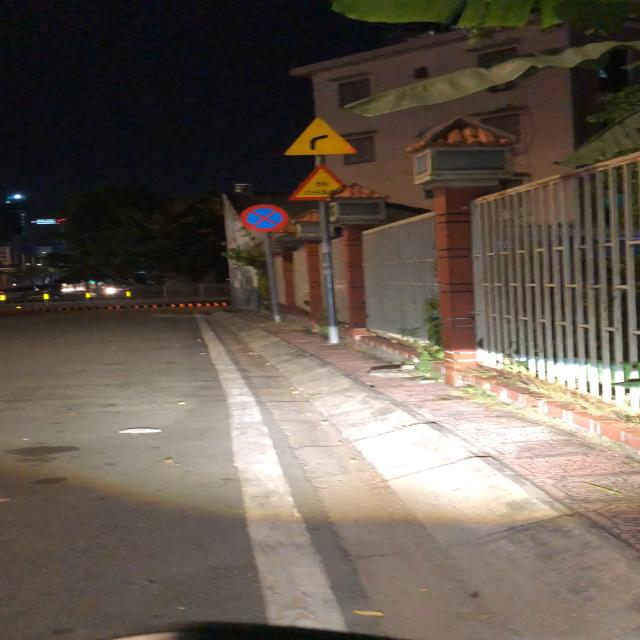Bien bao cam dung xe va do xe: (239, 204, 290, 232)
Bien bao cho ngoat nguy hiem: (281, 115, 360, 157)
Bien bao di cham: (290, 161, 351, 202)
